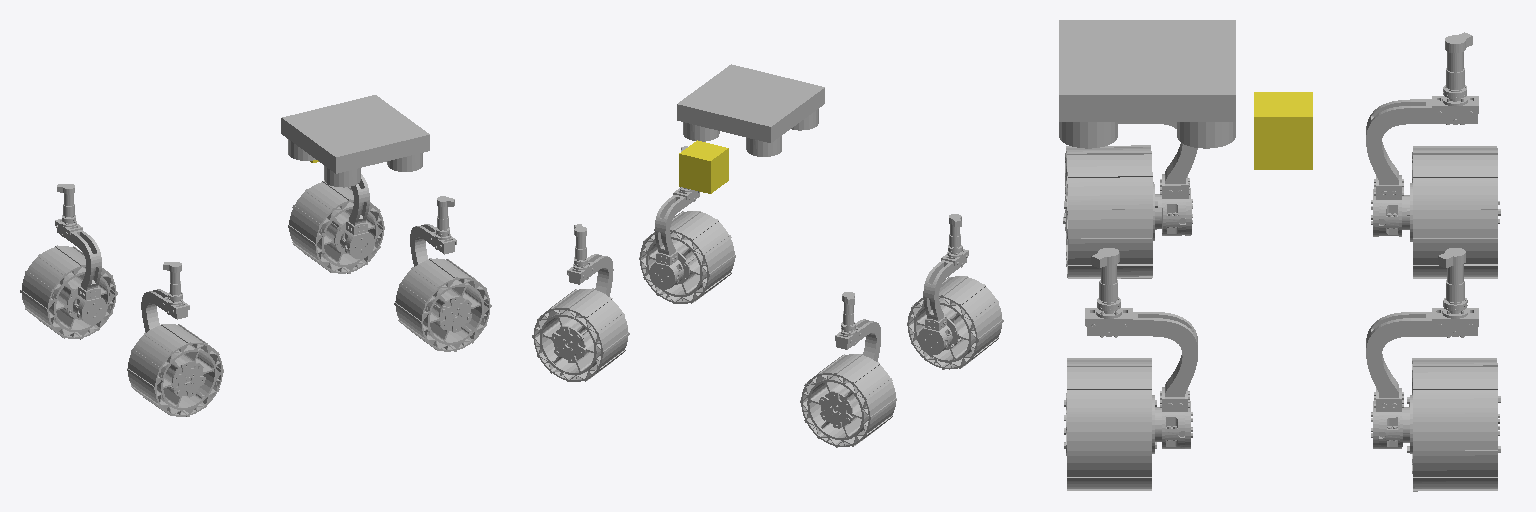
--- Render facts (derived) ---
Views: 3 orthographic renders of the robot side by side, from view 1: azimuth 30°, elevation 25°; view 2: azimuth 150°, elevation 25°; view 3: azimuth 270°, elevation 25°.
Robot: mars_rover — 18 links, 17 joints (4 revolute, 4 continuous, 9 fixed); root link base_link; default pose: every joint at zero.
Visible links, largest first — view 1: chassis, wheel2, wheel3, wheel1, wheel4, steering1, steering2, steeering3, steering4; view 2: chassis, wheel1, wheel4, wheel3, wheel2, steering2, steeering3, steering4, steering1, camera_link; view 3: chassis, wheel4, wheel3, wheel2, wheel1, steering4, steeering3, steering1, camera_link, steering2.
Boxes of the visible links, x1,y1,x2,y2 form: chassis: [281, 95, 429, 187]; wheel2: [127, 324, 223, 416]; wheel3: [394, 258, 491, 351]; wheel1: [20, 245, 117, 339]; wheel4: [288, 180, 384, 273]; steering1: [55, 184, 106, 324]; steering2: [141, 262, 205, 397]; steeering3: [410, 196, 471, 332]; steering4: [330, 174, 374, 258]; chassis: [677, 64, 824, 156]; wheel1: [800, 354, 896, 447]; wheel4: [532, 288, 629, 381]; wheel3: [639, 211, 735, 303]; wheel2: [907, 276, 1003, 369]; steering2: [918, 214, 968, 354]; steeering3: [649, 146, 699, 289]; steering4: [551, 224, 613, 362]; steering1: [819, 292, 880, 428]; camera_link: [679, 140, 728, 193]; chassis: [1059, 20, 1235, 148]; wheel4: [1412, 358, 1497, 491]; wheel3: [1067, 358, 1151, 490]; wheel2: [1065, 145, 1152, 278]; wheel1: [1412, 146, 1497, 278]; steering4: [1366, 248, 1500, 453]; steeering3: [1064, 248, 1197, 455]; steering1: [1366, 32, 1500, 241]; camera_link: [1254, 92, 1312, 169]; steering2: [1063, 122, 1197, 244].
Bounding box of the posed robot: 1.08 × 0.7495 × 0.6874 m (x, y, z).
9 mesh visuals loaded from 9 distinct referenced files (9 binary STL).

URDF robot description (mars_rover):
<?xml version="1.0" encoding="utf-8"?>
    <!-- This URDF was automatically created by SolidWorks to URDF Exporter! Originally created by Stephen Brawner ([email redacted]) 
        Commit Version: 1.6.0-4-g7f85cfe  Build Version: 1.6.7995.38578
        For more information, please see http://wiki.ros.org/sw_urdf_exporter -->
    <robot name="mars_rover" xmlns:xacro="http://ros.org/wiki/xacro">

    <link name = "base_link"/>
    <link name = "base_footprint"/>

    <joint name="base_footprint_tf" type="fixed">
      <origin xyz="0 0 0" rpy="0 0 0"/>
      <parent link="base_link"/>
      <child link="base_footprint"/>
    </joint>

      <link
        name="chassis">
        <inertial>
          <origin
            xyz="-0.169915088395825 -0.00199596460135764 -0.00919692919066987"
            rpy="0 0 0" />
          <mass
            value="14.4435926271869" />
          <inertia
            ixx="0.0717912278135852"
            ixy="-7.70091070297908E-07"
            ixz="-6.88067299368864E-07"
            iyy="0.298762417937452"
            iyz="2.41721140540893E-08"
            izz="0.359670360949306" />
        </inertial>
        <visual>
          <origin
            xyz="0 0 0"
            rpy="0 0 0" />
          <geometry>
            <mesh
              filename="package://rover_description/meshes/base_link.STL" />
          </geometry>
          <material
            name="">
            <color
              rgba="0.752941176470588 0.752941176470588 0.752941176470588 1" />
          </material>
        </visual>
        <collision>
          <origin
            xyz="0 0 0"
            rpy="0 0 0" />
          <geometry>
            <mesh
              filename="package://rover_description/meshes/base_link.STL" />
          </geometry>
        </collision>
      </link>

      <joint name="connector" type="fixed">
        <origin xyz="0 0 0.4" rpy="0 0 0"/>
        <parent link="base_link"/>
        <child link="chassis"/>
      </joint>

      <link
        name="steering1">
        <inertial>
          <origin
            xyz="0.000525112226394842 -0.0335326994132589 -0.193802692885311"
            rpy="0 0 0" />
          <mass
            value="6.64830273269256" />
          <inertia
            ixx="0.0236327074483744"
            ixy="1.53496169623355E-05"
            ixz="6.57674614863919E-06"
            iyy="0.019303321564257"
            iyz="-0.00126381697267368"
            izz="0.0217357170628441" />
        </inertial>
        <visual>
          <origin
            xyz="0 0 0"
            rpy="0 0 0" />
          <geometry>
            <mesh
              filename="package://rover_description/meshes/steering1.STL" />
          </geometry>
          <material
            name="">
            <color
              rgba="0.752941176470588 0.752941176470588 0.752941176470588 1" />
          </material>
        </visual>
        <collision>
          <origin
            xyz="0 0 0"
            rpy="0 0 0" />
          <geometry>
            <mesh
              filename="package://rover_description/meshes/steering1.STL" />
          </geometry>
        </collision>
      </link>
      <joint
        name="steer1"
        type="revolute">
        <origin
          xyz="-0.52941 0.29162 -0.12851"
          rpy="0 -1.8353E-05 0" />
        <parent
          link="chassis" />
        <child
          link="steering1" />
        <axis
          xyz="0 0 1" />
        <limit effort="10" velocity="6.28"  lower="-1.57" upper="1.57" />
      </joint>
      <link
        name="wheel1">
        <inertial>
          <origin
            xyz="-0.000142261151015677 0.000391028851553232 -0.067999985619256"
            rpy="0 0 0" />
          <mass
            value="1.96171696755186" />
          <inertia
            ixx="0.0111765177053231"
            ixy="3.63484716438248E-14"
            ixz="-9.83139513884305E-10"
            iyy="0.0111765177116241"
            iyz="-1.70424653629502E-07"
            izz="0.0157859329323531" />
        </inertial>
        <visual>
          <origin
            xyz="0 0 0"
            rpy="0 0 0" />
          <geometry>
            <mesh
              filename="package://rover_description/meshes/wheel1.STL" />
          </geometry>
          <material
            name="">
            <color
              rgba="0.752941176470588 0.752941176470588 0.752941176470588 1" />
          </material>
        </visual>
        <collision>
          <origin
            xyz="0 0 0"
            rpy="0 0 0" />
          <geometry>
				        <cylinder radius="0.11" length="0.144"/>
			   </geometry>
        </collision>
      </link>
      <joint
        name="wheel_1"
        type="continuous">
        <origin
          xyz="0.000353156675627797 0.0676257237290513 -0.216586122585117"
          rpy="-1.5708332999603 1.83526331234849E-05 0.00321478961806723" />
        <parent
          link="steering1" />
        <child
          link="wheel1" />
        <axis
          xyz="0 0 1" />
      </joint>
      <link
        name="steering2">
        <inertial>
          <origin
            xyz="-0.000474889077884733 0.0341947940956224 -0.19380284134621"
            rpy="0 0 0" />
          <mass
            value="6.64830400801289" />
          <inertia
            ixx="0.0236304005612626"
            ixy="0.000114678117693231"
            ixz="-3.02547344080121E-05"
            iyy="0.019306197957872"
            iyz="0.00125759688431803"
            izz="0.0217350588985547" />
        </inertial>
        <visual>
          <origin
            xyz="0 0 0"
            rpy="0 0 0" />
          <geometry>
            <mesh
              filename="package://rover_description/meshes/steering2.STL" />
          </geometry>
          <material
            name="">
            <color
              rgba="0.752941176470588 0.752941176470588 0.752941176470588 1" />
          </material>
        </visual>
        <collision>
          <origin
            xyz="0 0 0"
            rpy="0 0 0" />
          <geometry>
            <mesh
              filename="package://rover_description/meshes/steering2.STL" />
          </geometry>
        </collision>
      </link>
      <joint
        name="steer2"
        type="revolute">
        <origin
          xyz="-0.52941 -0.29588 -0.1285"
          rpy="0 0 0" />
        <parent
          link="chassis" />
        <child
          link="steering2" />
        <axis
          xyz="0 0 1" />
        <limit effort="10" velocity="6.28"  lower="-1.57" upper="1.57" />
      </joint>
      <link
        name="wheel2">
        <inertial>
          <origin
            xyz="-0.000413021540613123 -2.44790194104949E-05 0.0679999999991169"
            rpy="0 0 0" />
          <mass
            value="1.96171696755186" />
          <inertia
            ixx="0.0111765177053229"
            ixy="1.46936453891669E-17"
            ixz="-1.59919820441612E-18"
            iyy="0.0111765177053229"
            iyz="-1.6690363377749E-17"
            izz="0.0157859329386544" />
        </inertial>
        <visual>
          <origin
            xyz="0 0 0"
            rpy="0 0 0" />
          <geometry>
            <mesh
              filename="package://rover_description/meshes/wheel2.STL" />
          </geometry>
          <material
            name="">
            <color
              rgba="0.752941176470588 0.752941176470588 0.752941176470588 1" />
          </material>
        </visual>
        <collision>
          <origin
            xyz="0 0 0"
            rpy="0 0 0" />
          <geometry>
				        <cylinder radius="0.11" length="0.144"/>
			   </geometry>
        </collision>
      </link>
      <joint
        name="wheel_2"
        type="continuous">
        <origin
          xyz="0.00260503655999339 -0.0673405250297557 -0.216999105202697"
          rpy="-1.5707963267949 0 0.0261401718711602" />
        <parent
          link="steering2" />
        <child
          link="wheel2" />
        <axis
          xyz="0 0 1" />
      </joint>
      <link
        name="steeering3">
        <inertial>
          <origin
            xyz="-0.000416600731458772 0.0335152875528032 -0.193802433433151"
            rpy="0 0 0" />
          <mass
            value="6.64830392215954" />
          <inertia
            ixx="0.0236333353649771"
            ixy="1.52860727031699E-06"
            ixz="-3.17219019035638E-06"
            iyy="0.0193032353280473"
            iyz="0.00126391062872571"
            izz="0.0217350863633826" />
        </inertial>
        <visual>
          <origin
            xyz="0 0 0"
            rpy="0 0 0" />
          <geometry>
            <mesh
              filename="package://rover_description/meshes/steeering3.STL" />
          </geometry>
          <material
            name="">
            <color
              rgba="0.752941176470588 0.752941176470588 0.752941176470588 1" />
          </material>
        </visual>
        <collision>
          <origin
            xyz="0 0 0"
            rpy="0 0 0" />
          <geometry>
            <mesh
              filename="package://rover_description/meshes/steeering3.STL" />
          </geometry>
        </collision>
      </link>
      <joint
        name="steer_3"
        type="revolute">
        <origin
          xyz="0.32344 -0.29562 -0.1285"
          rpy="0 0 0" />
        <parent
          link="chassis" />
        <child
          link="steeering3" />
        <axis
          xyz="0 0 1" />
        <limit effort="10" velocity="6.28"  lower="-1.57" upper="1.57" />
      </joint>
      <link
        name="wheel3">
        <inertial>
          <origin
            xyz="0.00012752326976001 0.000393603647906415 0.0679999999986239"
            rpy="0 0 0" />
          <mass
            value="1.96171696755186" />
          <inertia
            ixx="0.0111765177053229"
            ixy="1.46784681409658E-17"
            ixz="-1.1367644329826E-15"
            iyy="0.0111765177053229"
            iyz="-3.63032951516692E-17"
            izz="0.0157859329386544" />
        </inertial>
        <visual>
          <origin
            xyz="0 0 0"
            rpy="0 0 0" />
          <geometry>
            <mesh
              filename="package://rover_description/meshes/wheel3.STL" />
          </geometry>
          <material
            name="">
            <color
              rgba="0.752941176470588 0.752941176470588 0.752941176470588 1" />
          </material>
        </visual>
        <collision>
          <origin
            xyz="0 0 0"
            rpy="0 0 0" />
          <geometry>
				        <cylinder radius="0.11" length="0.144"/>
			   </geometry>
        </collision>
      </link>
      <joint
        name="wheel_3"
        type="continuous">
        <origin
          xyz="-0.000555418729084156 -0.067625619393596 -0.216581022537134"
          rpy="-1.5707963267949 0 0" />
        <parent
          link="steeering3" />
        <child
          link="wheel3" />
        <axis
          xyz="0 0 1" />
      </joint>
      <link
        name="steering4">
        <inertial>
          <origin
            xyz="-0.00011106391877802 -0.0338081154233735 -0.19380292769291"
            rpy="0 0 0" />
          <mass
            value="6.64830259385427" />
          <inertia
            ixx="0.0236324149128355"
            ixy="4.11539442084093E-05"
            ixz="8.21164009695582E-06"
            iyy="0.0193036407758429"
            iyz="-0.00125789757300897"
            izz="0.0217356897618841" />
        </inertial>
        <visual>
          <origin
            xyz="0 0 0"
            rpy="0 0 0" />
          <geometry>
            <mesh
              filename="package://rover_description/meshes/steering4.STL" />
          </geometry>
          <material
            name="">
            <color
              rgba="0.752941176470588 0.752941176470588 0.752941176470588 1" />
          </material>
        </visual>
        <collision>
          <origin
            xyz="0 0 0"
            rpy="0 0 0" />
          <geometry>
            <mesh
              filename="package://rover_description/meshes/steering4.STL" />
          </geometry>
        </collision>
      </link>
      <joint
        name="steer4"
        type="revolute">
        <origin
          xyz="0.32345 0.29186 -0.12849"
          rpy="0 -1.8353E-05 0" />
        <parent
          link="chassis" />
        <child
          link="steering4" />
        <axis
          xyz="0 0 1" />
        <limit effort="10" velocity="6.28"  lower="-1.57" upper="1.57" />
      </joint>
      <link
        name="wheel4">
        <inertial>
          <origin
            xyz="0.000413714800629517 -5.10683655707833E-06 -0.0679999999999992"
            rpy="0 0 0" />
          <mass
            value="1.96171696755186" />
          <inertia
            ixx="0.0111765177053229"
            ixy="7.33822171003051E-18"
            ixz="-1.84314369322536E-18"
            iyy="0.011176517705323"
            iyz="-2.23015354728552E-17"
            izz="0.0157859329386545" />
        </inertial>
        <visual>
          <origin
            xyz="0 0 0"
            rpy="0 0 0" />
          <geometry>
            
            <mesh
              filename="package://rover_description/meshes/wheel4.STL" />
          </geometry>
          <material
            name="">
            <color
              rgba="0.752941176470588 0.752941176470588 0.752941176470588 1" />
          </material>
        </visual>
        <collision>
          <origin
            xyz="0 0 0"
            rpy="0 0 0" />
          <geometry>
				        <cylinder radius="0.11" length="0.144"/>
			   </geometry>
        </collision>
      </link>
      <joint
        name="wheel_4"
        type="continuous">
        <origin
          xyz="-0.00146559562126541 0.0673855594536285 -0.21697972522299"
          rpy="-1.5707963246485 1.83519361346148E-05 0.00917303616199558" />
        <parent
          link="steering4" />
        <child
          link="wheel4" />
        <axis
          xyz="0 0 1" />
      </joint>

    <transmission name="wheel_1_trans">
      <type>transmission_interface/SimpleTransmission</type>
      <joint name="wheel_1">
        <hardwareInterface>hardware_interface/VelocityJointInterface</hardwareInterface>
      </joint>
      <actuator name="motor_1">
        <mechanicalReduction>1</mechanicalReduction>
      </actuator>
    </transmission>

    <transmission name="wheel_2_trans">
      <type>transmission_interface/SimpleTransmission</type>
      <joint name="wheel_2">
        <hardwareInterface>hardware_interface/VelocityJointInterface</hardwareInterface>
      </joint>
      <actuator name="motor_2">
        <mechanicalReduction>1</mechanicalReduction>
      </actuator>
    </transmission>

    <transmission name="wheel_3_trans">
      <type>transmission_interface/SimpleTransmission</type>
      <joint name="wheel_3">
        <hardwareInterface>hardware_interface/VelocityJointInterface</hardwareInterface>
      </joint>
      <actuator name="motor_3">
        <mechanicalReduction>1</mechanicalReduction>
      </actuator>
    </transmission>

    <transmission name="wheel_4_trans">
      <type>transmission_interface/SimpleTransmission</type>
      <joint name="wheel_4">
        <hardwareInterface>hardware_interface/VelocityJointInterface</hardwareInterface>
      </joint>
      <actuator name="motor_4">
        <mechanicalReduction>1</mechanicalReduction>
      </actuator>
    </transmission>
    
    <transmission name="steer_1_trans">
      <type>transmission_interface/SimpleTransmission</type>
      <joint name="steer1">
        <hardwareInterface>hardware_interface/PositionJointInterface</hardwareInterface>
      </joint>
      <actuator name="motor_steer_1">
        <mechanicalReduction>30</mechanicalReduction>
      </actuator>
    </transmission>

    <transmission name="steer_2_trans">
      <type>transmission_interface/SimpleTransmission</type>
      <joint name="steer2">
        <hardwareInterface>hardware_interface/PositionJointInterface</hardwareInterface>
      </joint>
      <actuator name="motor_steer_2">
        <mechanicalReduction>30</mechanicalReduction>
      </actuator>
    </transmission>

    <transmission name="steer_3_trans">
      <type>transmission_interface/SimpleTransmission</type>
      <joint name="steer_3">
        <hardwareInterface>hardware_interface/PositionJointInterface</hardwareInterface>
      </joint>
      <actuator name="motor_steer_3">
        <mechanicalReduction>30</mechanicalReduction>
      </actuator>
    </transmission>

    <transmission name="steer_4_trans">
      <type>transmission_interface/SimpleTransmission</type>
      <joint name="steer4">
        <hardwareInterface>hardware_interface/PositionJointInterface</hardwareInterface>
      </joint>
      <actuator name="motor_steer_4">
        <mechanicalReduction>30</mechanicalReduction>
      </actuator>
    </transmission>

 <gazebo>
    <plugin name="gazebo_ros_control" filename="libgazebo_ros_control.so">
    </plugin>
  </gazebo>

<link name="camera_link">
  <visual>
    <origin xyz="0 0 0" rpy="0 0 0"/>
    <geometry>
      <box size="0.1 0.1 0.1"/> <!-- Example visual geometry, adjust as needed -->
    </geometry>
  </visual>
  <collision>
    <origin xyz="0 0 0" rpy="0 0 0"/>
    <geometry>
      <box size="0.1 0.1 0.1"/> <!-- Example collision geometry, adjust as needed -->
    </geometry>
  </collision>
</link>
<link name="camera_link_1">
  <visual>
    <origin xyz="0 0 0" rpy="0 0 0"/>
    <geometry>
      <box size="0.1 0.1 0.1"/> <!-- Example visual geometry, adjust as needed -->
    </geometry>
  </visual>
  <collision>
    <origin xyz="0 0 0" rpy="0 0 0"/>
    <geometry>
      <box size="0.1 0.1 0.1"/> <!-- Example collision geometry, adjust as needed -->
    </geometry>
  </collision>
</link>
<link name="camera_link_2">
  <visual>
    <origin xyz="0 0 0" rpy="0 0 0"/>
    <geometry>
      <box size="0.1 0.1 0.1"/> <!-- Example visual geometry, adjust as needed -->
    </geometry>
  </visual>
  <collision>
    <origin xyz="0 0 0" rpy="0 0 0"/>
    <geometry>
      <box size="0.1 0.1 0.1"/> <!-- Example collision geometry, adjust as needed -->
    </geometry>
  </collision>
</link>
<link name="camera_optical_link">
</link>
<joint name="camera_optical_joint" type="fixed">
  <parent link="camera_link"/>
  <child link="camera_optical_link"/>
  <origin xyz="0 0 0" rpy="-1.57 0 -1.57"/> <!-- Adjust position as needed -->
</joint>
<link name="camera_optical_link_1">
</link>
<joint name="camera_optical_joint_1" type="fixed">
  <parent link="camera_link_1"/>
  <child link="camera_optical_link_1"/>
  <origin xyz="0 0 0" rpy="-1.57 0 -1.57"/> <!-- Adjust position as needed -->
</joint>
<link name="camera_optical_link_2">
</link>
<joint name="camera_optical_joint_2" type="fixed">
  <parent link="camera_link_2"/>
  <child link="camera_optical_link_2"/>
  <origin xyz="0 0 0" rpy="-1.57 0 -1.57"/> <!-- Adjust position as needed -->
</joint>
<joint name="camera_joint" type="fixed">
  <parent link="chassis"/>
  <child link="camera_link"/>
  <origin xyz="0.1 0 0.1" rpy="0 0 0"/> <!-- Adjust position as needed -->
</joint>
<joint name="camera_joint_1" type="fixed">
  <parent link="chassis"/>
  <child link="camera_link_1"/>
  <origin xyz="0.1 0 0.1" rpy="0 0 0"/> <!-- Adjust position as needed -->
</joint>
<joint name="camera_joint_2" type="fixed">
  <parent link="chassis"/>
  <child link="camera_link_2"/>
  <origin xyz="0.1 0 0.1" rpy="0 0 0"/> <!-- Adjust position as needed -->
</joint>
<gazebo reference="camera_link">
  <sensor name="kinect_camera" type="depth">
    <update_rate>100</update_rate>
    <camera>
      <horizontal_fov>1.047198</horizontal_fov>
      <image>
        <width>640</width>
        <height>480</height>
        <format>R8G8B8</format>
      </image>
      <clip>
        <near>0.05</near>
        <far>3</far>
      </clip>
    </camera>
    <plugin name="camera_plugin" filename="libgazebo_ros_openni_kinect.so">
          <baseline>0.2</baseline>
          <alwaysOn>true</alwaysOn>
          <updateRate>0.0</updateRate>
          <cameraName>camera_ir</cameraName>
          <imageTopicName>/camera/color/image_raw</imageTopicName>
          <cameraInfoTopicName>/camera/color/camera_info</cameraInfoTopicName>
          <depthImageTopicName>/camera/depth/image_raw</depthImageTopicName>
          <depthImageCameraInfoTopicName>/camera/depth/camera_info</depthImageCameraInfoTopicName>
          <pointCloudTopicName>/camera/depth/points</pointCloudTopicName>
          <frameName>camera_optical_link</frameName>
          <pointCloudCutoff>0.5</pointCloudCutoff>
          <pointCloudCutoffMax>3.0</pointCloudCutoffMax>
          <distortionK1>0</distortionK1>
          <distortionK2>0</distortionK2>
          <distortionK3>0</distortionK3>
          <distortionT1>0</distortionT1>
          <distortionT2>0</distortionT2>
          <CxPrime>0</CxPrime>
          <Cx>0</Cx>
          <Cy>0</Cy>
          <focalLength>0</focalLength>
          <hackBaseline>0</hackBaseline>
        </plugin>
  </sensor>
</gazebo>
<!-- Camera plugin -->
<gazebo reference="camera_link_1">
  <sensor name="kinect_camera" type="depth">
    <update_rate>100</update_rate>
    <camera>
      <horizontal_fov>1.047198</horizontal_fov>
      <image>
        <width>640</width>
        <height>480</height>
        <format>R8G8B8</format>
      </image>
      <clip>
        <near>0.05</near>
        <far>3</far>
      </clip>
    </camera>
    <plugin name="camera_plugin" filename="libgazebo_ros_openni_kinect.so">
          <baseline>0.2</baseline>
          <alwaysOn>true</alwaysOn>
          <updateRate>0.0</updateRate>
          <cameraName>camera_ir</cameraName>
          <imageTopicName>/camera/color/image_raw</imageTopicName>
          <cameraInfoTopicName>/camera/color/camera_info</cameraInfoTopicName>
          <depthImageTopicName>/camera/depth/image_raw</depthImageTopicName>
          <depthImageCameraInfoTopicName>/camera/depth/camera_info</depthImageCameraInfoTopicName>
          <pointCloudTopicName>/camera/depth/points</pointCloudTopicName>
          <frameName>camera_optical_link_1</frameName>
          <pointCloudCutoff>0.5</pointCloudCutoff>
          <pointCloudCutoffMax>3.0</pointCloudCutoffMax>
          <distortionK1>0</distortionK1>
          <distortionK2>0</distortionK2>
          <distortionK3>0</distortionK3>
          <distortionT1>0</distortionT1>
          <distortionT2>0</distortionT2>
          <CxPrime>0</CxPrime>
          <Cx>0</Cx>
          <Cy>0</Cy>
          <focalLength>0</focalLength>
          <hackBaseline>0</hackBaseline>
        </plugin>
  </sensor>
</gazebo>
<gazebo reference="camera_link_2">
  <sensor name="kinect_camera" type="depth">
    <update_rate>100</update_rate>
    <camera>
      <horizontal_fov>1.047198</horizontal_fov>
      <image>
        <width>640</width>
        <height>480</height>
        <format>R8G8B8</format>
      </image>
      <clip>
        <near>0.05</near>
        <far>3</far>
      </clip>
    </camera>
    <plugin name="camera_plugin" filename="libgazebo_ros_openni_kinect.so">
          <baseline>0.2</baseline>
          <alwaysOn>true</alwaysOn>
          <updateRate>0.0</updateRate>
          <cameraName>camera_ir</cameraName>
          <imageTopicName>/camera/color/image_raw</imageTopicName>
          <cameraInfoTopicName>/camera/color/camera_info</cameraInfoTopicName>
          <depthImageTopicName>/camera/depth/image_raw</depthImageTopicName>
          <depthImageCameraInfoTopicName>/camera/depth/camera_info</depthImageCameraInfoTopicName>
          <pointCloudTopicName>/camera/depth/points</pointCloudTopicName>
          <frameName>camera_optical_link_2</frameName>
          <pointCloudCutoff>0.5</pointCloudCutoff>
          <pointCloudCutoffMax>3.0</pointCloudCutoffMax>
          <distortionK1>0</distortionK1>
          <distortionK2>0</distortionK2>
          <distortionK3>0</distortionK3>
          <distortionT1>0</distortionT1>
          <distortionT2>0</distortionT2>
          <CxPrime>0</CxPrime>
          <Cx>0</Cx>
          <Cy>0</Cy>
          <focalLength>0</focalLength>
          <hackBaseline>0</hackBaseline>
        </plugin>
  </sensor>
</gazebo>
<gazebo reference="camera_link">
  <sensor name="kinect_camera" type="depth">
    <update_rate>100</update_rate>
    <camera>
      <horizontal_fov>1.047198</horizontal_fov>
      <image>
        <width>640</width>
        <height>480</height>
        <format>R8G8B8</format>
      </image>
      <clip>
        <near>0.05</near>
        <far>3</far>
      </clip>
    </camera>
    <plugin name="camera_plugin" filename="libgazebo_ros_openni_kinect.so">
          <baseline>0.2</baseline>
          <alwaysOn>true</alwaysOn>
          <updateRate>0.0</updateRate>
          <cameraName>camera_ir</cameraName>
          <imageTopicName>/camera/color/image_raw</imageTopicName>
          <cameraInfoTopicName>/camera/color/camera_info</cameraInfoTopicName>
          <depthImageTopicName>/camera/depth/image_raw</depthImageTopicName>
          <depthImageCameraInfoTopicName>/camera/depth/camera_info</depthImageCameraInfoTopicName>
          <pointCloudTopicName>/camera/depth/points</pointCloudTopicName>
          <frameName>camera_optical_link</frameName>
          <pointCloudCutoff>0.5</pointCloudCutoff>
          <pointCloudCutoffMax>3.0</pointCloudCutoffMax>
          <distortionK1>0</distortionK1>
          <distortionK2>0</distortionK2>
          <distortionK3>0</distortionK3>
          <distortionT1>0</distortionT1>
          <distortionT2>0</distortionT2>
          <CxPrime>0</CxPrime>
          <Cx>0</Cx>
          <Cy>0</Cy>
          <focalLength>0</focalLength>
          <hackBaseline>0</hackBaseline>
        </plugin>
  </sensor>
</gazebo>


<!-- IMU implementation -->
<link name="imu_link">
</link>
<origin xyz="0.0 0.0 0.0" rpy="0 0 0" />
<joint name="imu_joint" type="fixed">
<parent link="chassis"/>
<child link="imu_link"/>
</joint>

<gazebo reference="imu_link">
    <gravity>true</gravity>
    <sensor name="imu_sensor" type="imu">
      <always_on>true</always_on>
      <update_rate>100</update_rate>
      <visualize>true</visualize>
      <topic>__default_topic__</topic>
      <plugin filename="libgazebo_ros_imu_sensor.so" name="imu_plugin">
        <topicName>/imu/data</topicName>
        <bodyName>imu_link</bodyName>
        <updateRateHZ>10.0</updateRateHZ>
        <gaussianNoise>0.0</gaussianNoise>
        <xyzOffset>0 0 0</xyzOffset>
        <rpyOffset>0 0 0</rpyOffset>
        <frameName>imu_link</frameName>
        <initialOrientationAsReference>false</initialOrientationAsReference>
      </plugin>
      <pose>0 0 0 0 0 0</pose>
    </sensor>
  </gazebo>


  <!-- GPS implementation on rover -->

<gazebo>
  <plugin name="gazebo_ros_gps" filename="libhector_gazebo_ros_gps.so">
    <robotNamespace>mars_rover</robotNamespace>
    <updateRate>40.0</updateRate>
    <bodyName>base_link</bodyName>
    <frameId>base_link</frameId>
    <topicName>/gps/fix</topicName>
    <velocityTopicName>/gps/vel</velocityTopicName>
    <referenceLatitude>31.7754</referenceLatitude>
    <referenceLongitude>76.9861</referenceLongitude>
    <referenceHeading>20</referenceHeading>
    <referenceAltitude>10</referenceAltitude>
    <offset>0 0 0</offset>
    <drift>0 0 0</drift>
    <gaussianNoise>0.05 0.05 0.05</gaussianNoise>
    <velocityDrift>0.0001 0.0001 0.0001</velocityDrift>
    <velocityGaussianNoise>0.5 0.5 0.5</velocityGaussianNoise>
</plugin>
</gazebo>

    </robot>
